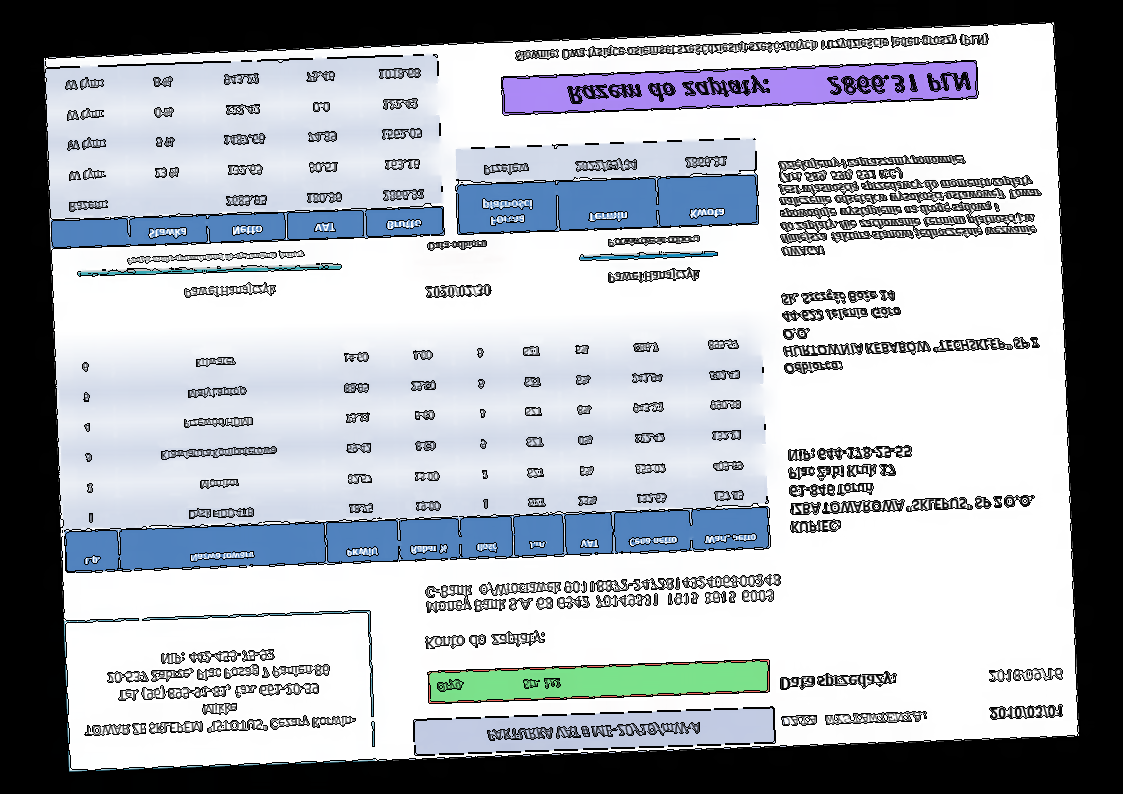Table: (56, 322, 771, 576), (45, 53, 446, 250), (454, 137, 759, 236)
TextBox: (777, 149, 1048, 260), (80, 645, 357, 738), (779, 281, 1040, 378), (785, 438, 1037, 538), (564, 65, 974, 110), (513, 29, 991, 65), (423, 572, 784, 615), (485, 718, 704, 744), (124, 247, 305, 267), (780, 707, 930, 731), (422, 628, 546, 652), (778, 669, 899, 693), (435, 674, 563, 694), (605, 264, 701, 286), (182, 282, 278, 303), (987, 664, 1066, 685), (605, 233, 702, 250), (986, 702, 1063, 723), (424, 281, 492, 301), (425, 238, 488, 253)
